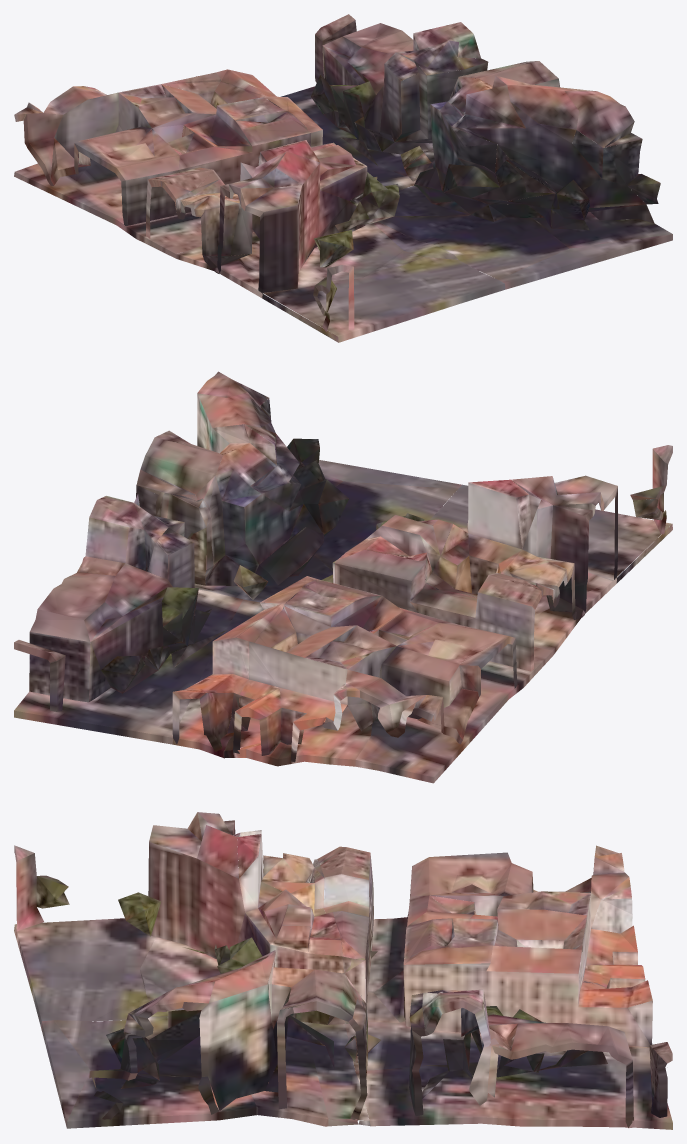
3 views of the same model, one above another, from view 1: azimuth 30°, elevation 25°; view 2: azimuth 150°, elevation 25°; view 3: azimuth 270°, elevation 25° (orthographic). The views are drawn at different scales.
Visible parts, largest first — view 1: Mesh_0; view 2: Mesh_0; view 3: Mesh_0.
Boxes of the visible parts, left/top/right/bottom form: Mesh_0: left=14, top=14, right=672, bottom=342; Mesh_0: left=14, top=371, right=672, bottom=783; Mesh_0: left=14, top=812, right=672, bottom=1129.
Bounding box in the file's own units: 133 × 45.31 × 165.
2 materials, 2 textured.
